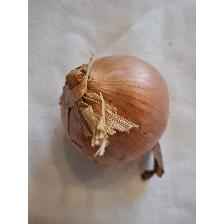Zwiebel: (59, 51, 171, 181)
